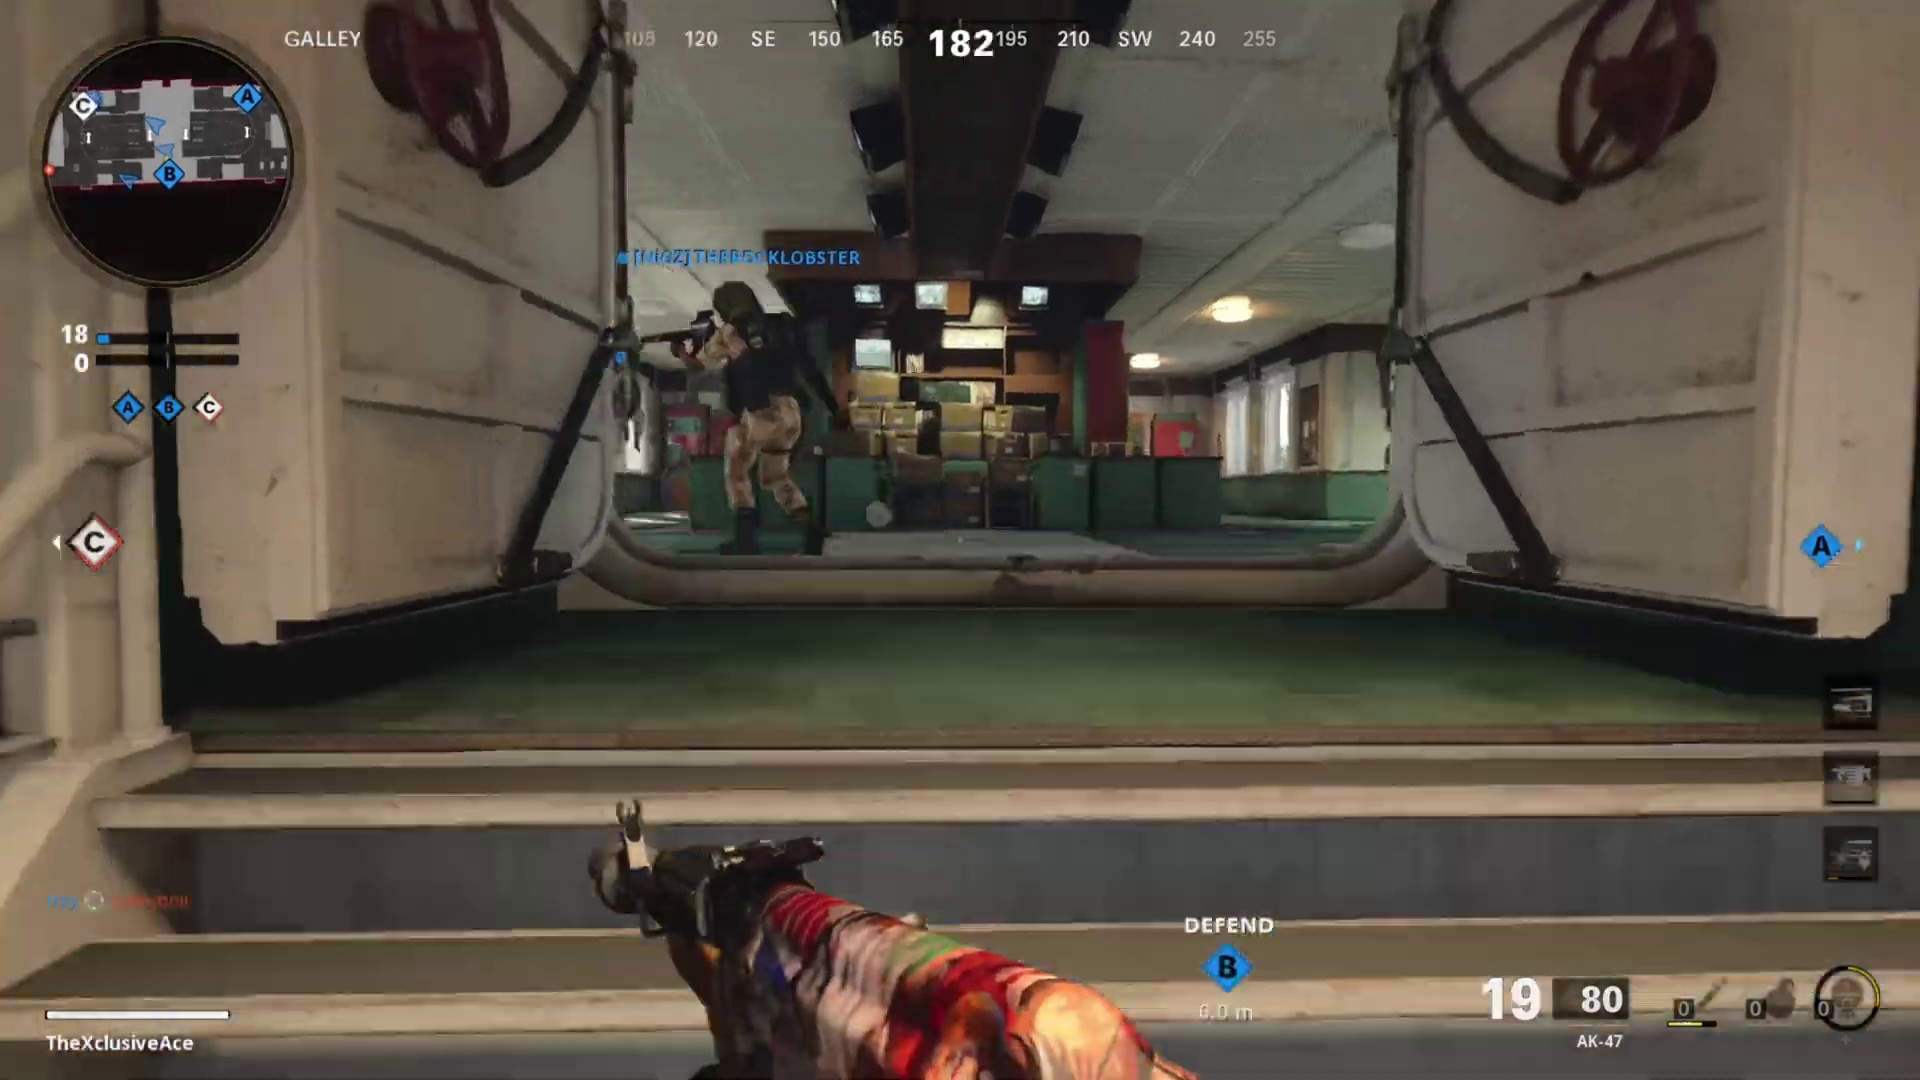head: (701, 278, 769, 351)
person: (685, 277, 839, 554)
